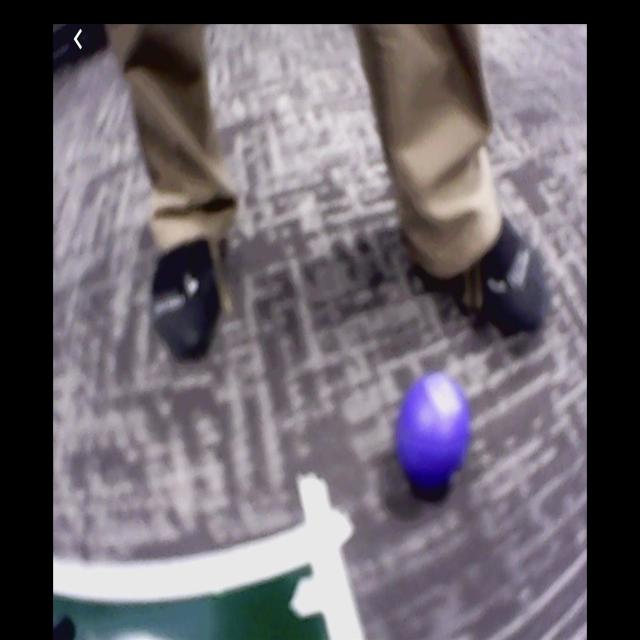ball: (397, 377, 471, 486)
